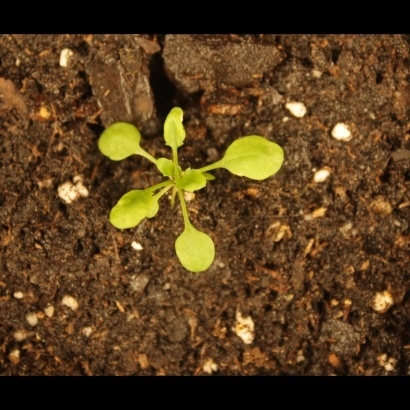leaf: (219, 133, 294, 183), (104, 186, 167, 236), (174, 220, 222, 279), (94, 117, 148, 165), (158, 104, 192, 153), (179, 170, 209, 193), (139, 197, 162, 220), (154, 156, 177, 179)
